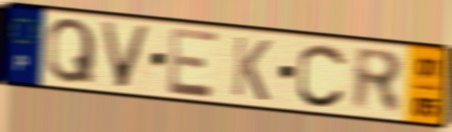C: (294, 41, 349, 111)
E: (166, 25, 221, 101)
K: (229, 33, 274, 104)
Q: (46, 16, 99, 86)
R: (351, 44, 406, 118)
V: (97, 19, 155, 91)
